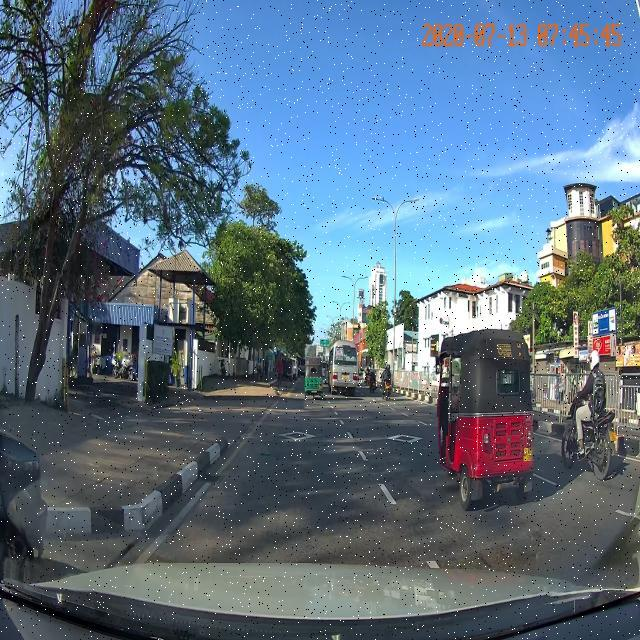diamond: (226, 414, 364, 452)
